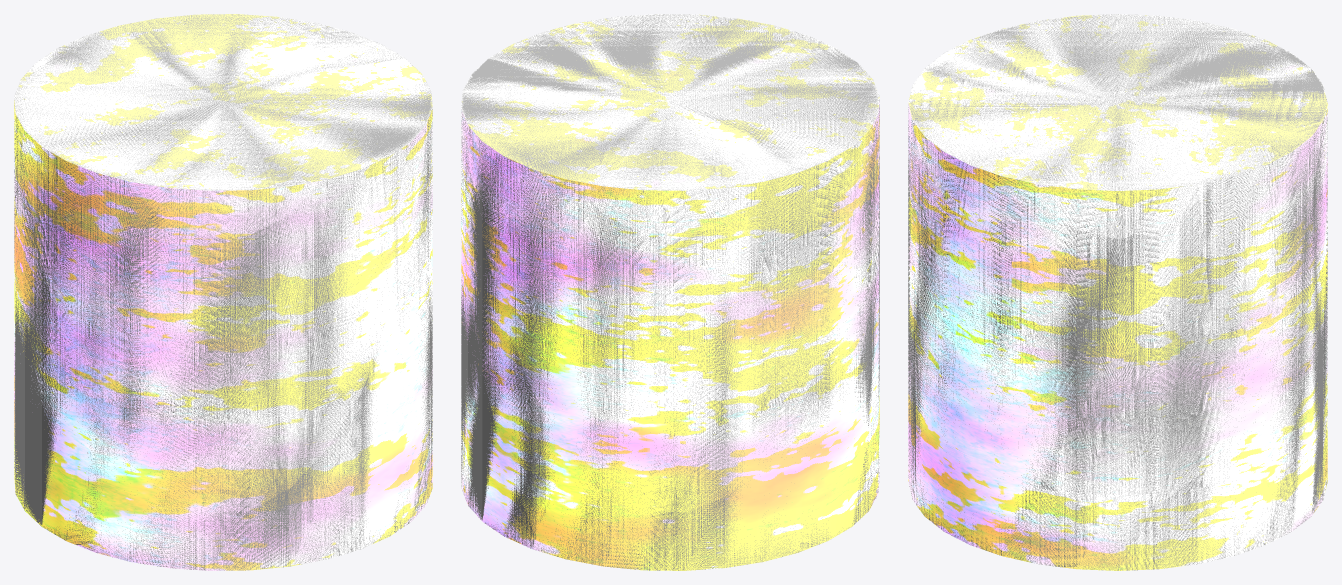
3 views of the same model, side by side, from view 1: azimuth 30°, elevation 25°; view 2: azimuth 150°, elevation 25°; view 3: azimuth 270°, elevation 25° (orthographic).
Parts seen in each view (by area): view 1: Cylinder, Cylinder_ConvexHulls; view 2: Cylinder, Cylinder_ConvexHulls; view 3: Cylinder, Cylinder_ConvexHulls.
Part boxes in pixels (x1=…): Cylinder: x1=14, y1=14, x2=432, y2=570; Cylinder_ConvexHulls: x1=14, y1=14, x2=432, y2=570; Cylinder: x1=461, y1=14, x2=879, y2=570; Cylinder_ConvexHulls: x1=461, y1=14, x2=879, y2=570; Cylinder: x1=908, y1=14, x2=1327, y2=570; Cylinder_ConvexHulls: x1=908, y1=14, x2=1327, y2=570.
Size of the model in its own units: 100 by 100 by 100.
